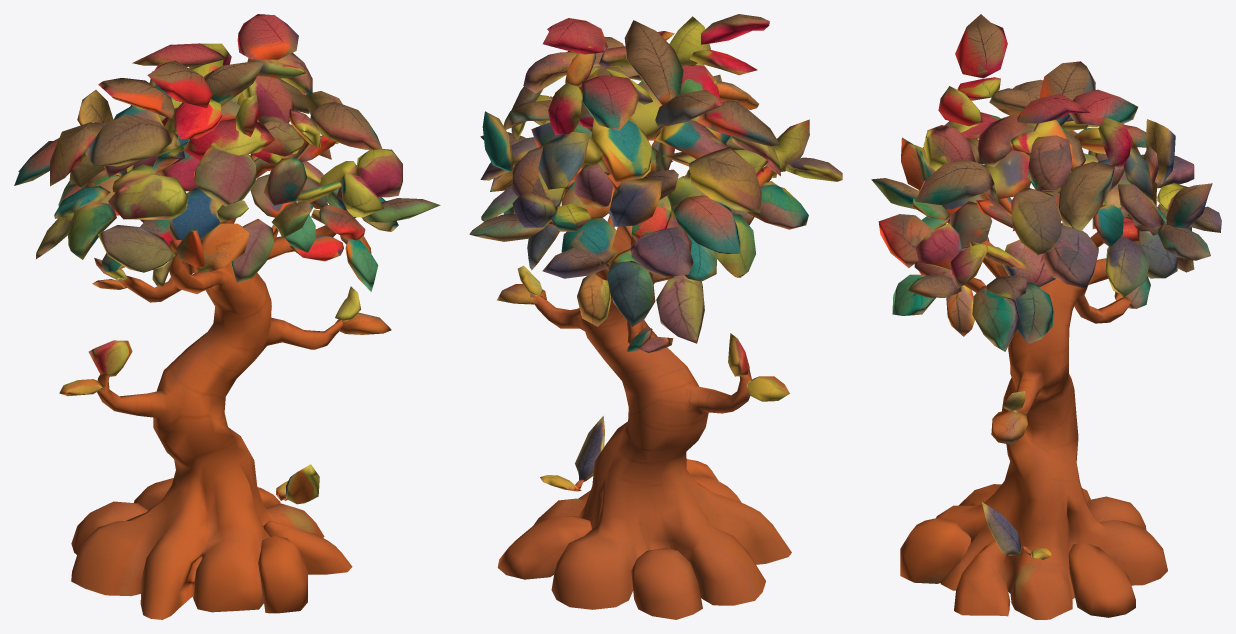
Rendered from RainbowCraftTree.fbx.
3 views of the same model, side by side, from view 1: azimuth 30°, elevation 25°; view 2: azimuth 150°, elevation 25°; view 3: azimuth 270°, elevation 25° (orthographic). The views are drawn at different scales.
Visible parts, largest first — view 1: Mesh_0; view 2: Mesh_0; view 3: Mesh_0.
Part boxes in pixels (x1=…): Mesh_0: x1=14, y1=14, x2=440, y2=619; Mesh_0: x1=469, y1=14, x2=842, y2=619; Mesh_0: x1=871, y1=14, x2=1221, y2=619.
Size of the model in its own units: 63.8 by 100 by 62.35.
Materials: 1 (1 with a texture image).
